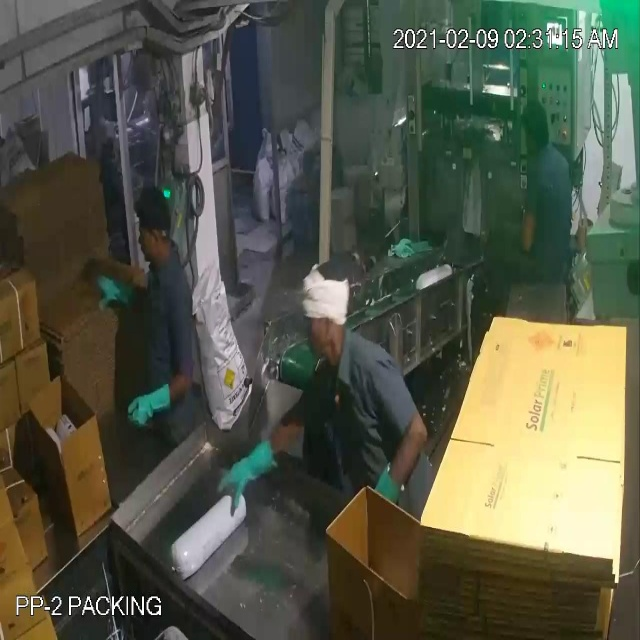Guantes: (212, 426, 285, 525), (86, 247, 153, 332), (119, 373, 184, 438)
